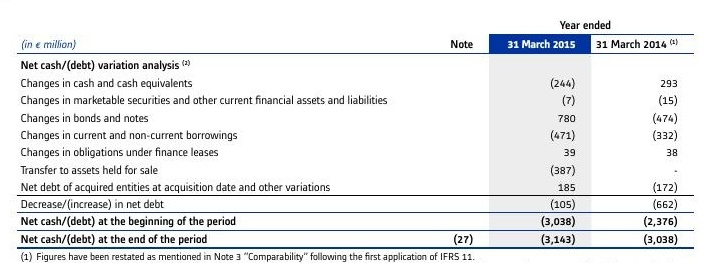table: (0, 0, 709, 263)
